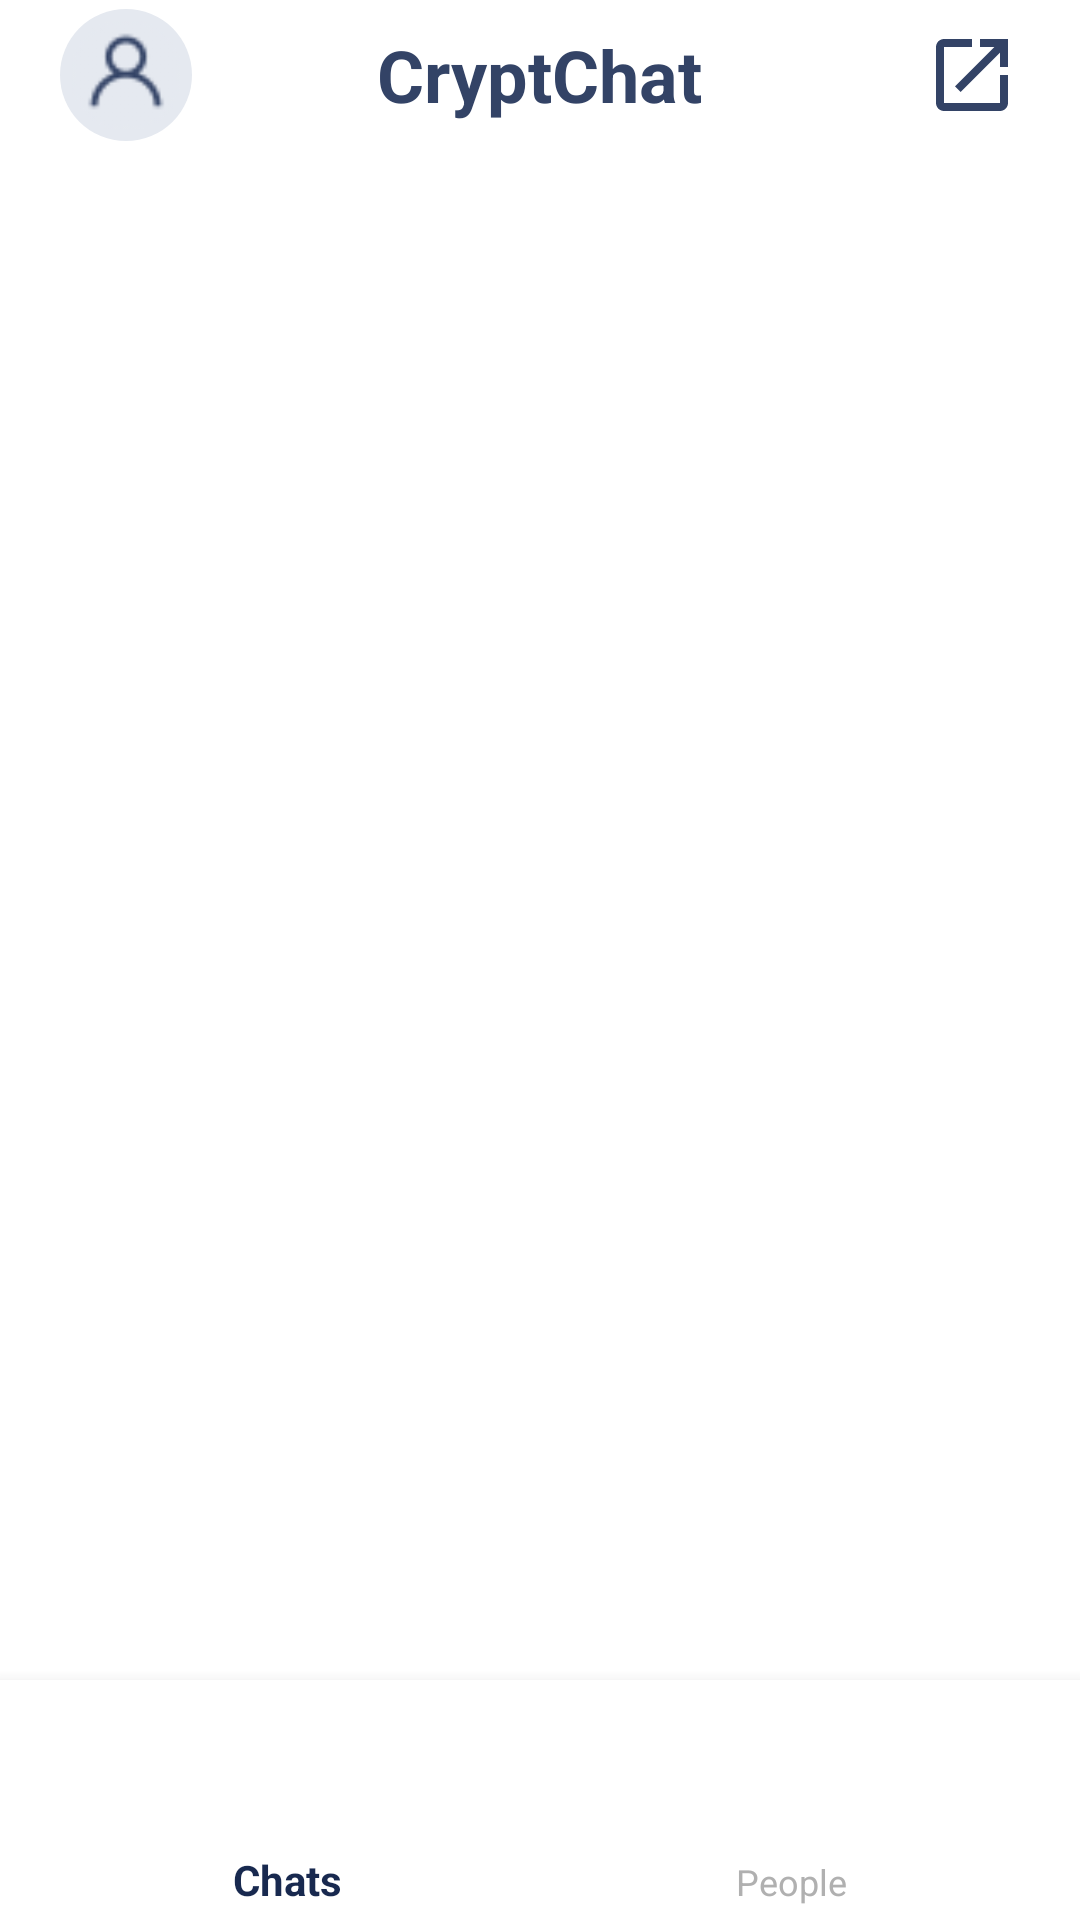

Icons on this 1080px x 1920px Android screen, each with its box as (x1, y1, x2, y2):
open in: (936, 39, 1008, 111)
person: (60, 9, 192, 141)
